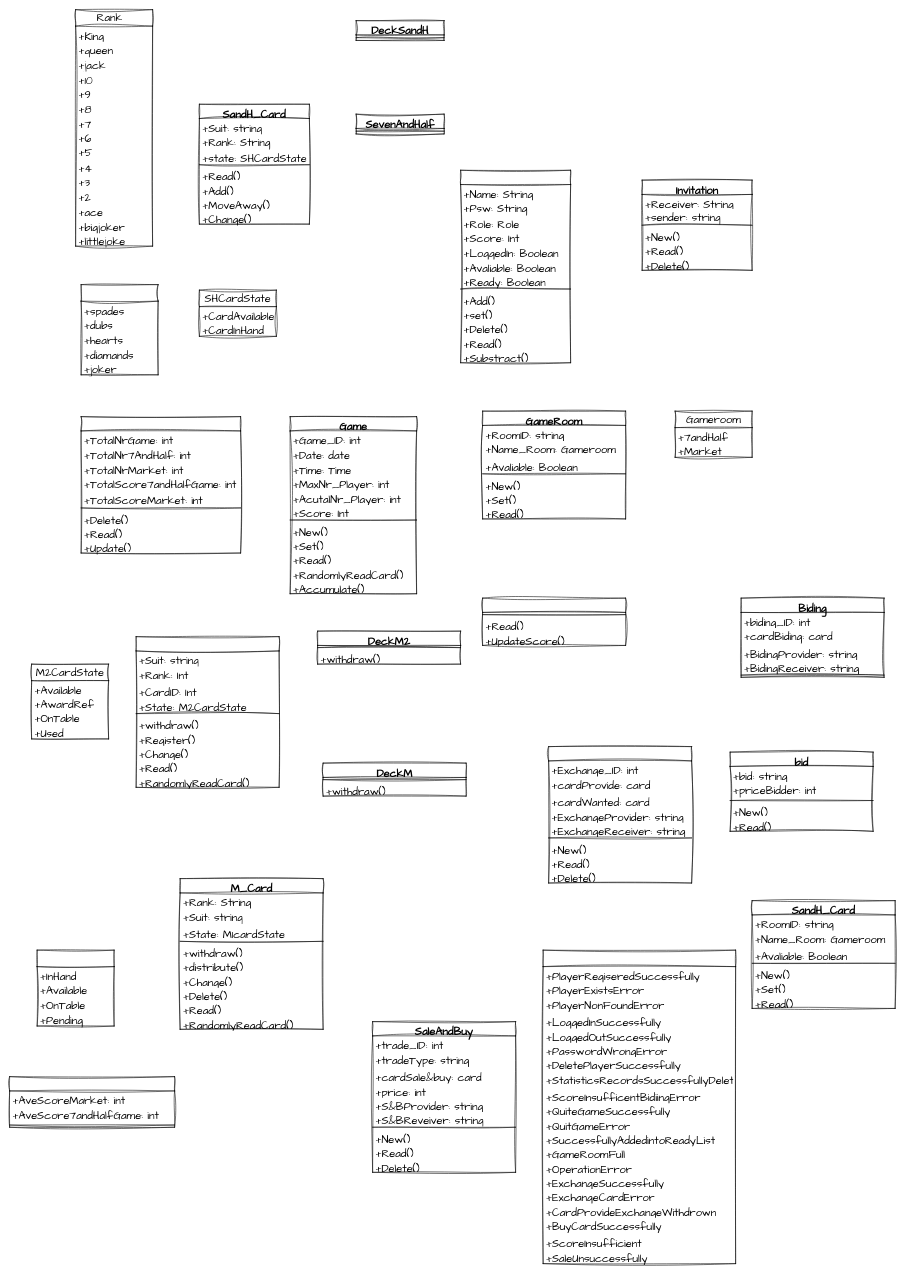
Some shapes in this 905 by 1275 pixel diagram are drawn without their labels. Each missing label, with the box of its shape:
AckMessage: (543, 950, 736, 1264)
Barte: (548, 746, 692, 883)
M1cardState: (37, 950, 114, 1026)
M_Card2: (136, 636, 279, 787)
Market: (482, 598, 626, 645)
Players: (460, 170, 571, 363)
Statistics: (81, 416, 241, 553)
Suit: (81, 284, 158, 375)
TVariable: (9, 1076, 175, 1127)
